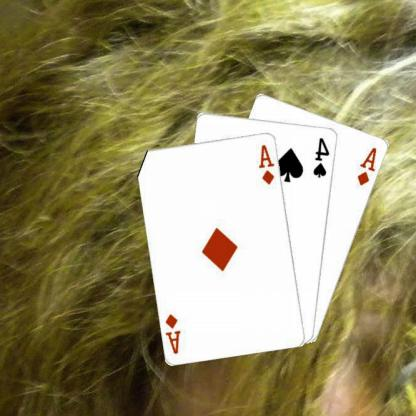4S: (312, 134, 333, 179)
AD: (357, 144, 380, 187), (164, 311, 184, 355), (258, 142, 277, 185)
